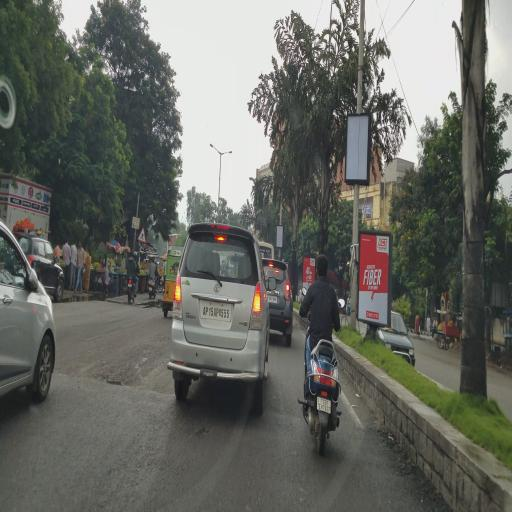street_light_0: (221, 140, 237, 166), (208, 137, 224, 163)
